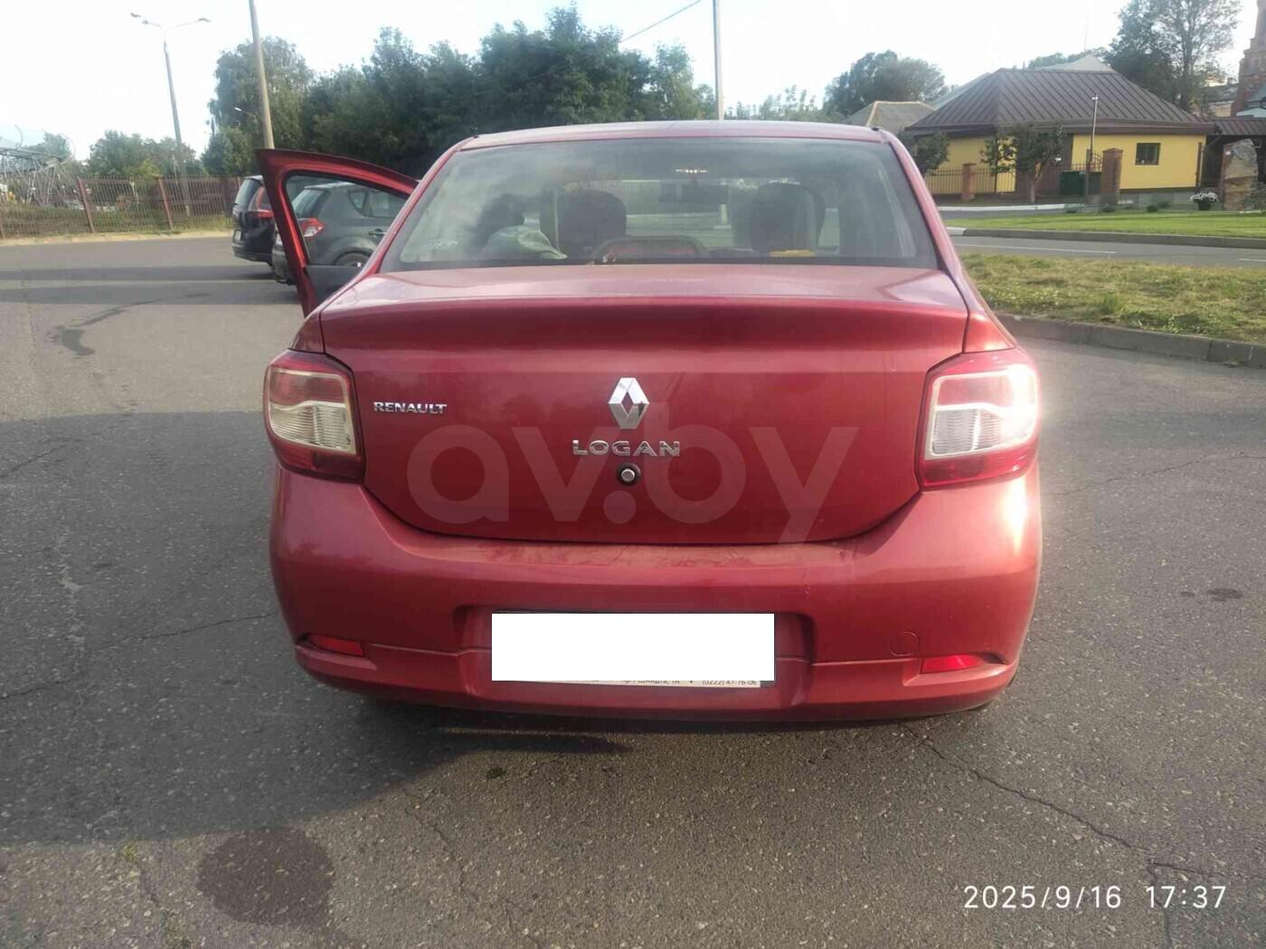Logan_2013-2018: (257, 112, 1049, 737)
